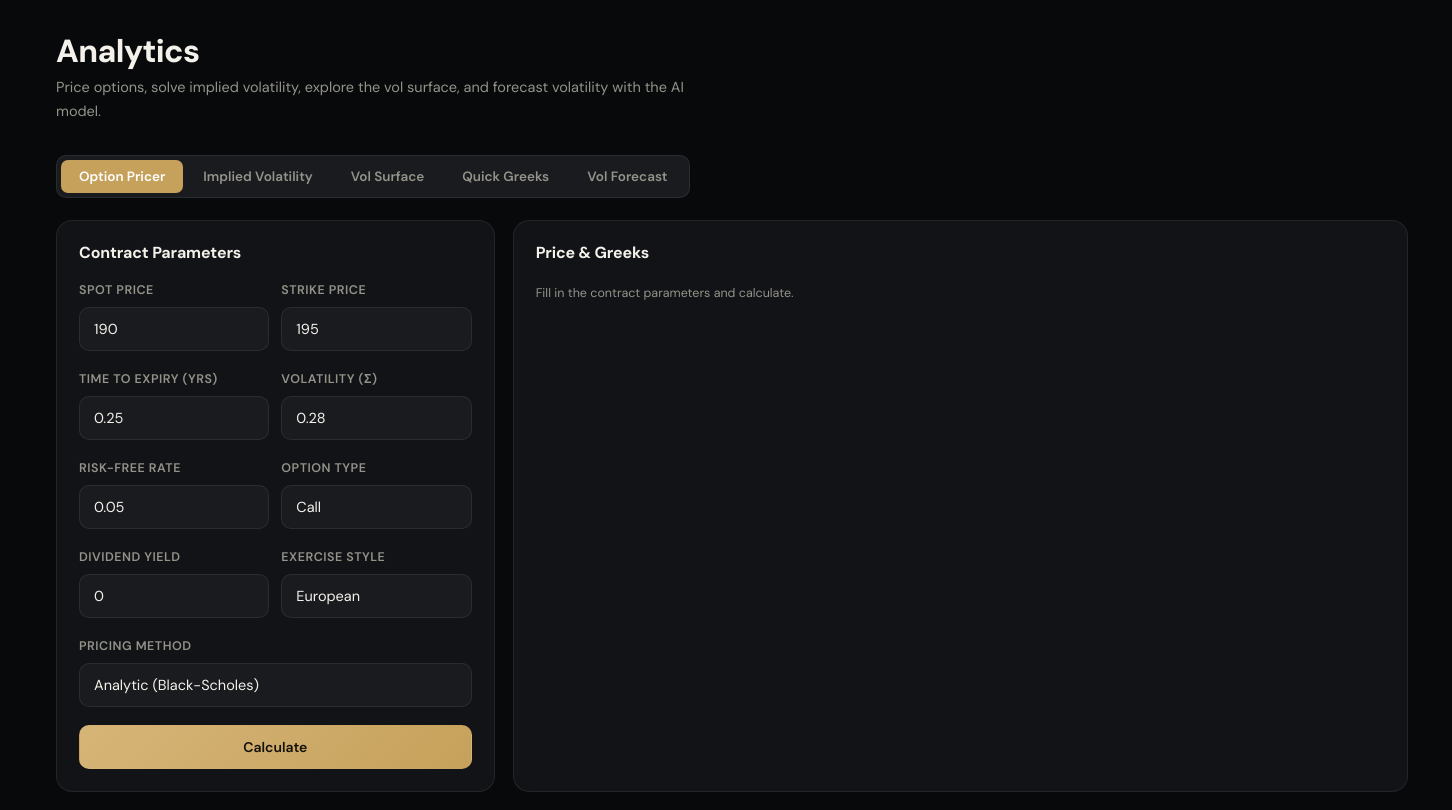
Test: tabs › switches to Vol Forecast
This screenshot has width=1452, height=810.
Click the button "Vol Forecast".
click(627, 176)  # box x1=569 y1=160 x2=685 y2=193
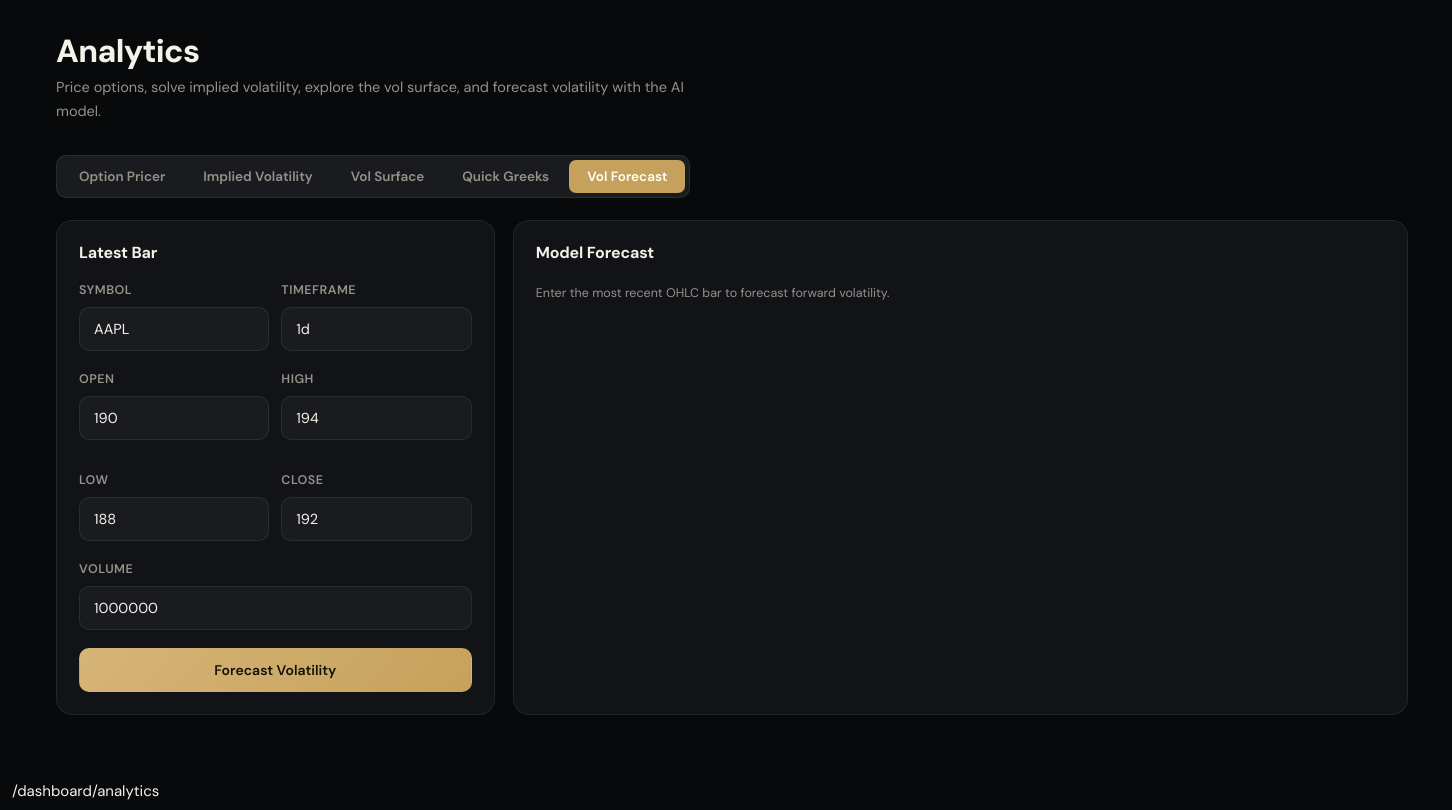
Result: the heading "Latest Bar" is shown at x1=79 y1=243 x2=157 y2=262
